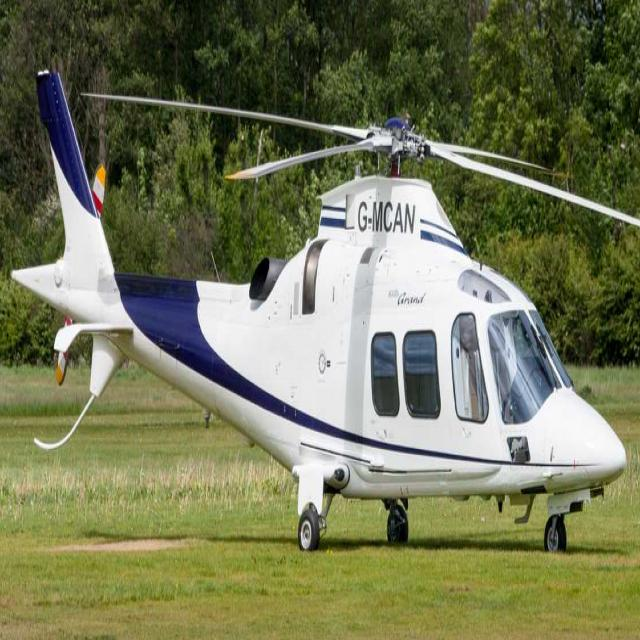helicopter: (11, 50, 640, 567)
